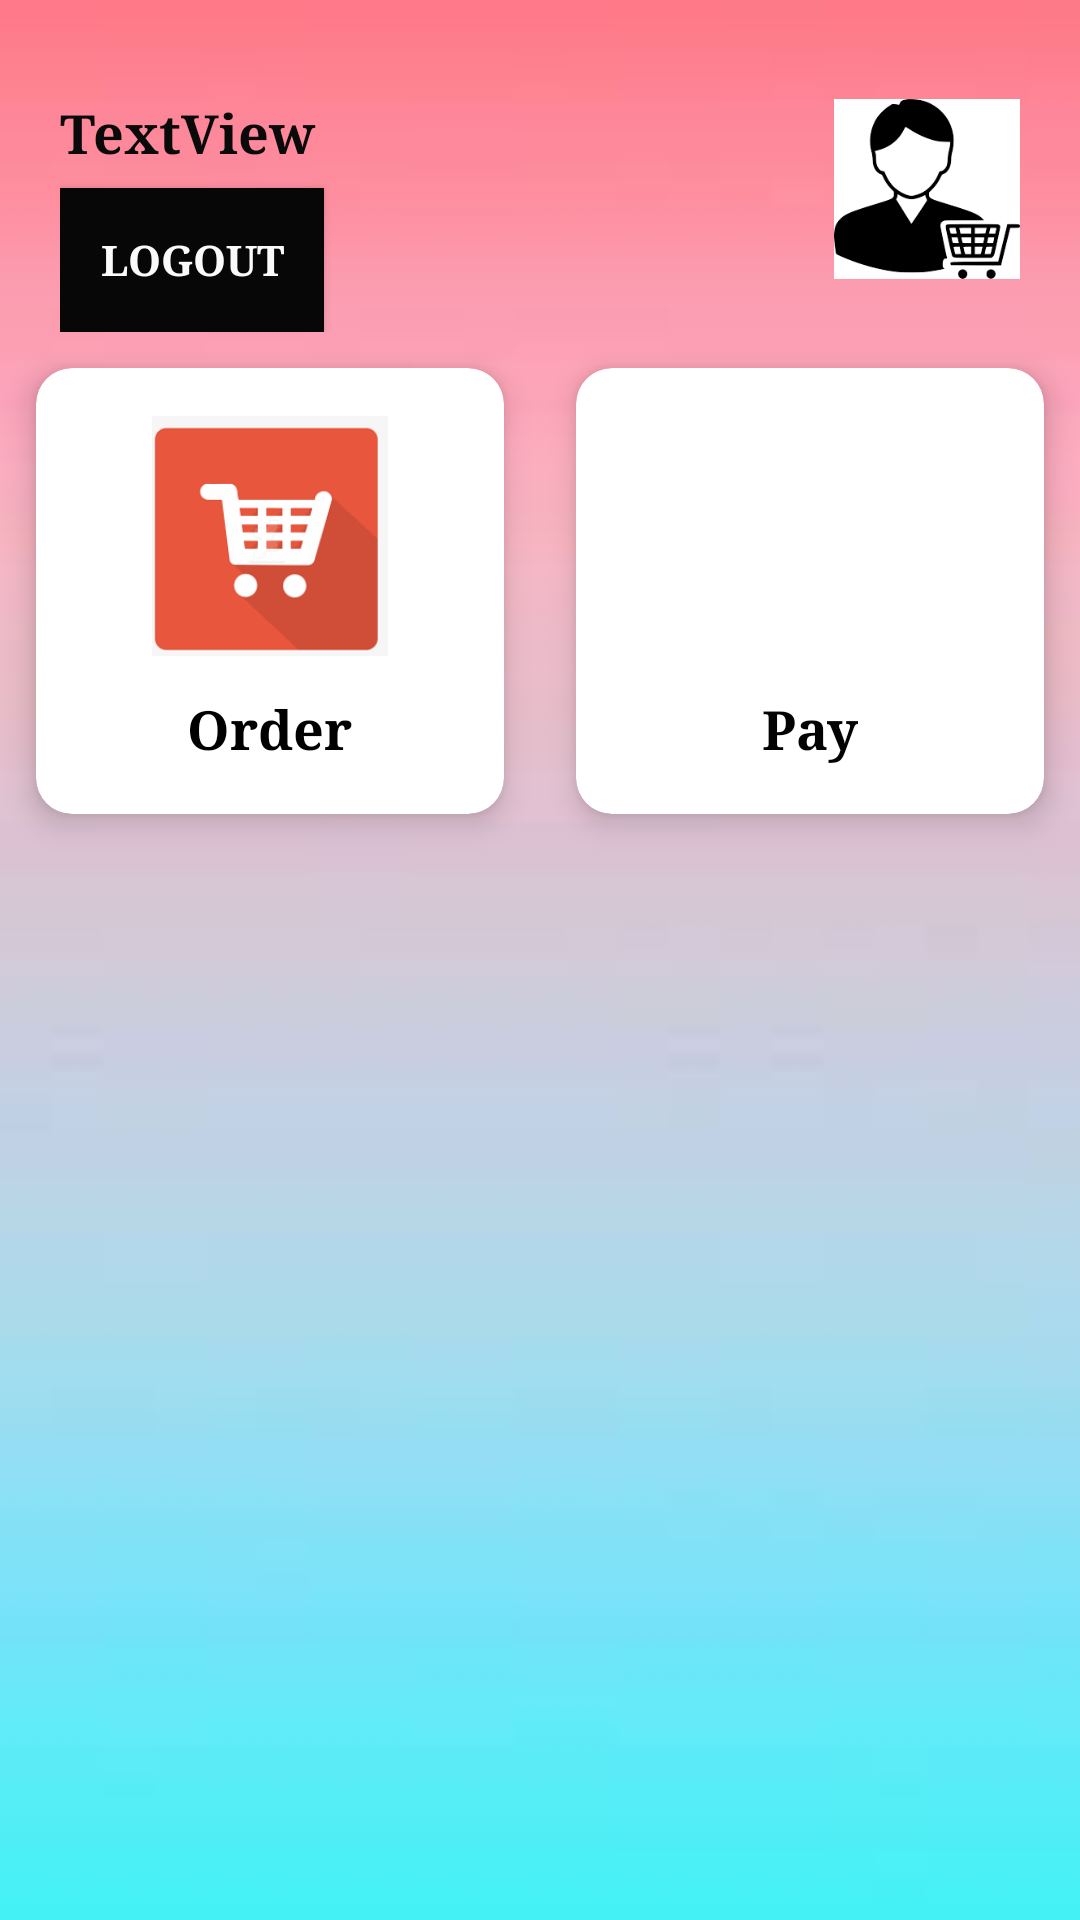

Screen size 1080×1920. Icon name, then its box in pixels as (x1, y1, x2, y2):
customer: (834, 99, 1020, 282)
